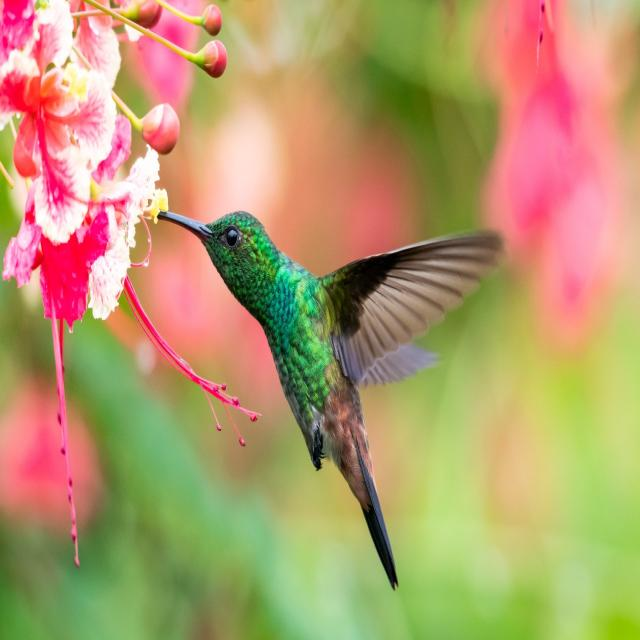Humming Bird: (153, 194, 505, 599)
